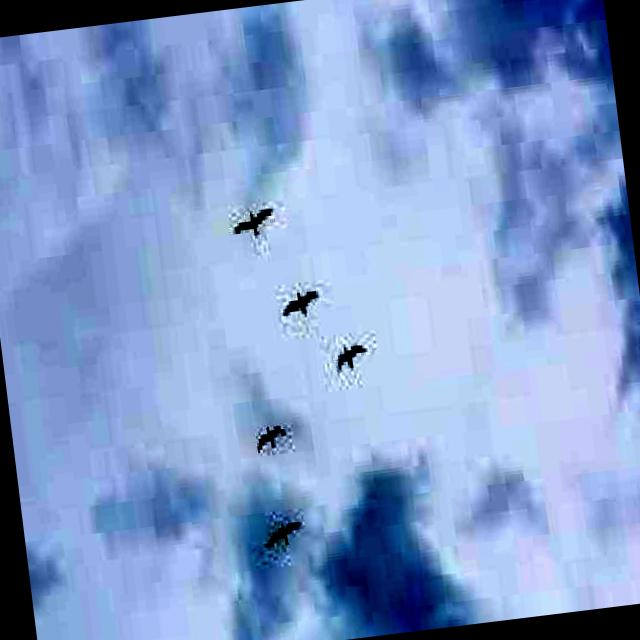bird: (270, 279, 329, 331), (230, 195, 282, 249), (250, 414, 300, 461), (330, 331, 374, 378), (256, 518, 313, 554)
